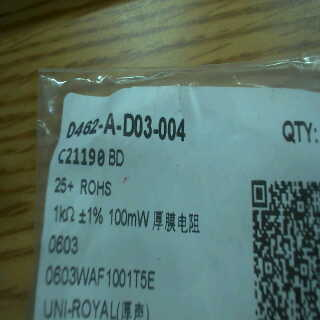1kR: (51, 201, 76, 228)
